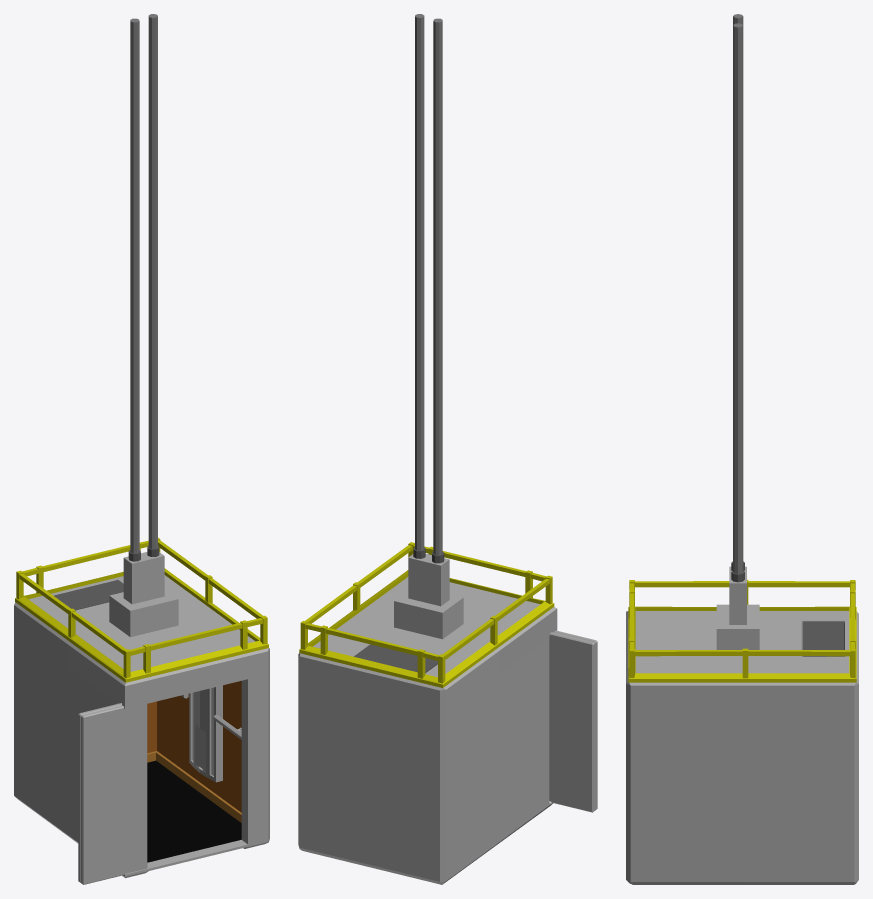
File: elevator.fbx
3 views of the same model, side by side, from view 1: azimuth 30°, elevation 25°; view 2: azimuth 150°, elevation 25°; view 3: azimuth 270°, elevation 25° (orthographic). The views are drawn at different scales.
Parts seen in each view (by area): view 1: Cart, Cables, OuterDoor, SafetyRamps, Console, Trap, InnerDoor; view 2: Cart, Cables, SafetyRamps, InnerDoor, Trap, OuterDoor; view 3: Cart, Cables, SafetyRamps, Trap.
Boxes of the visible parts, x1,y1,x2,y2 form: Cart: [14, 575, 269, 878]; Cables: [109, 14, 178, 637]; OuterDoor: [81, 704, 147, 884]; SafetyRamps: [15, 537, 268, 682]; Console: [189, 685, 222, 782]; Trap: [54, 580, 123, 610]; InnerDoor: [78, 703, 121, 882]; Cart: [298, 577, 557, 884]; Cables: [394, 14, 463, 639]; SafetyRamps: [299, 542, 554, 687]; InnerDoor: [549, 632, 594, 812]; Trap: [354, 644, 437, 672]; OuterDoor: [554, 630, 597, 810]; Cart: [626, 611, 858, 884]; Cables: [716, 14, 759, 649]; SafetyRamps: [628, 579, 856, 682]; Trap: [802, 621, 843, 656].
Size of the model in its own units: 297 by 1214 by 309.
